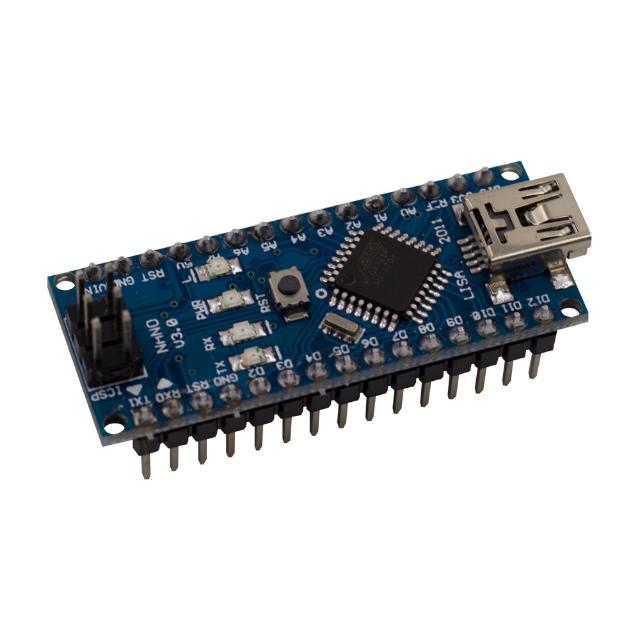Arduino-Nano: (51, 162, 592, 479)
